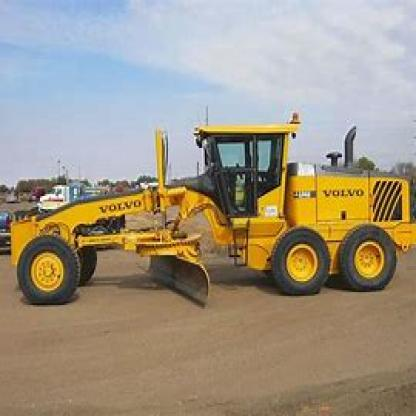bull_dozer/loader/grader: (14, 111, 414, 316)
